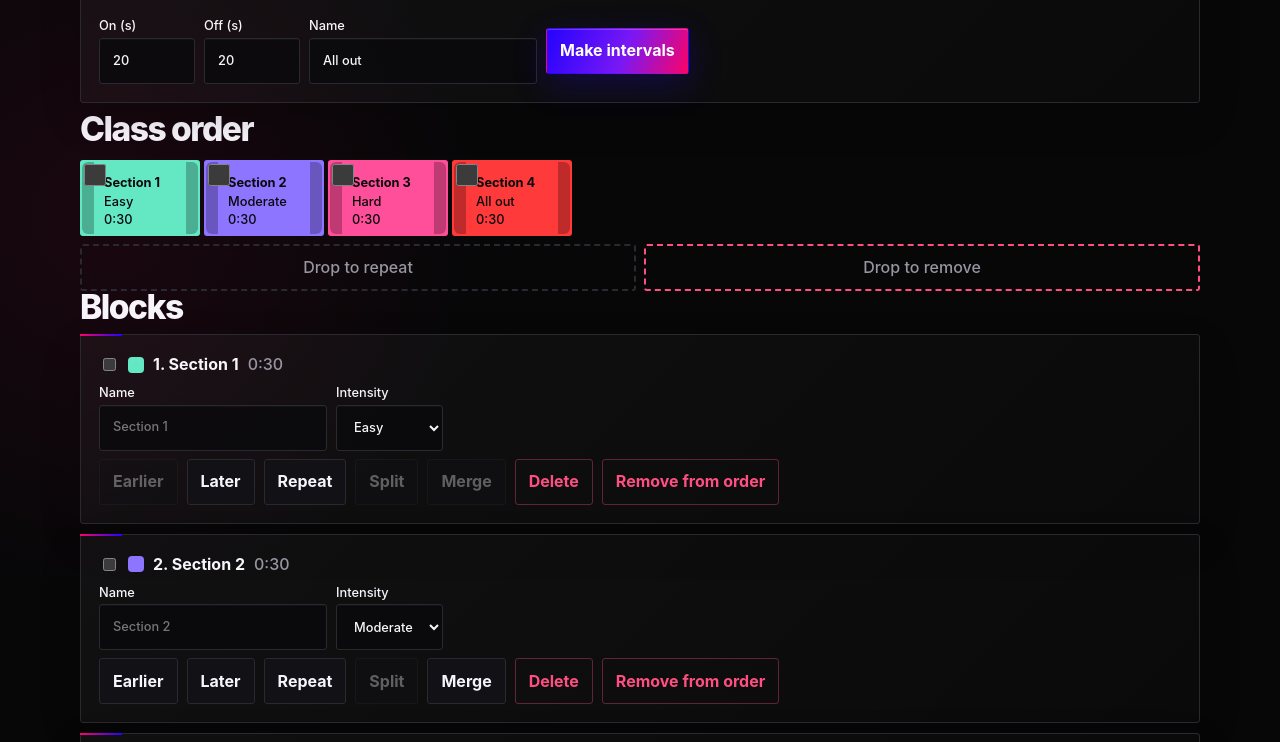
Test: Editor › select several blocks, then repeat them as a group
(page scrolled)
What coordinates should you click on to do the following:
click the checkbox named "Select block 1"
I would click on:
 (110, 365)
Its box is [103,358,116,371].
(page scrolled)
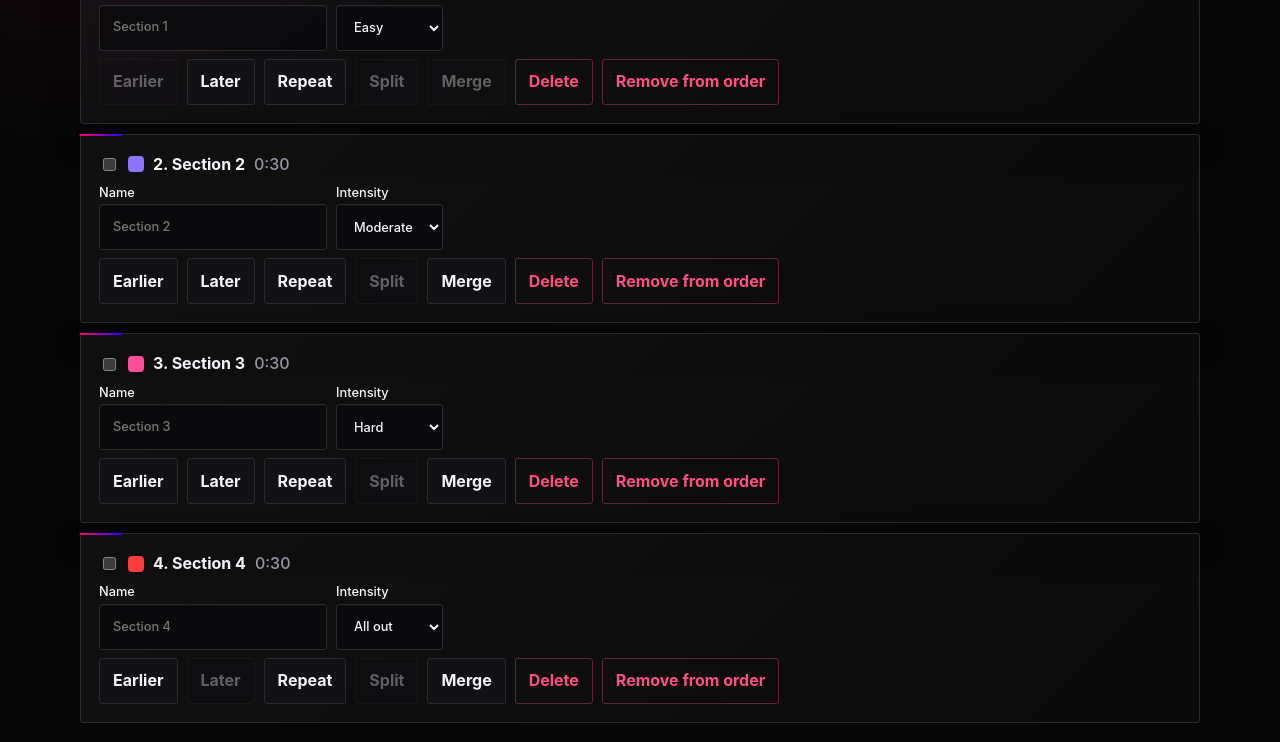
What coordinates should you click on to do the following:
click the checkbox named "Select block 3"
I would click on:
 (110, 364)
Its box is [103,358,116,370].
(page scrolled)
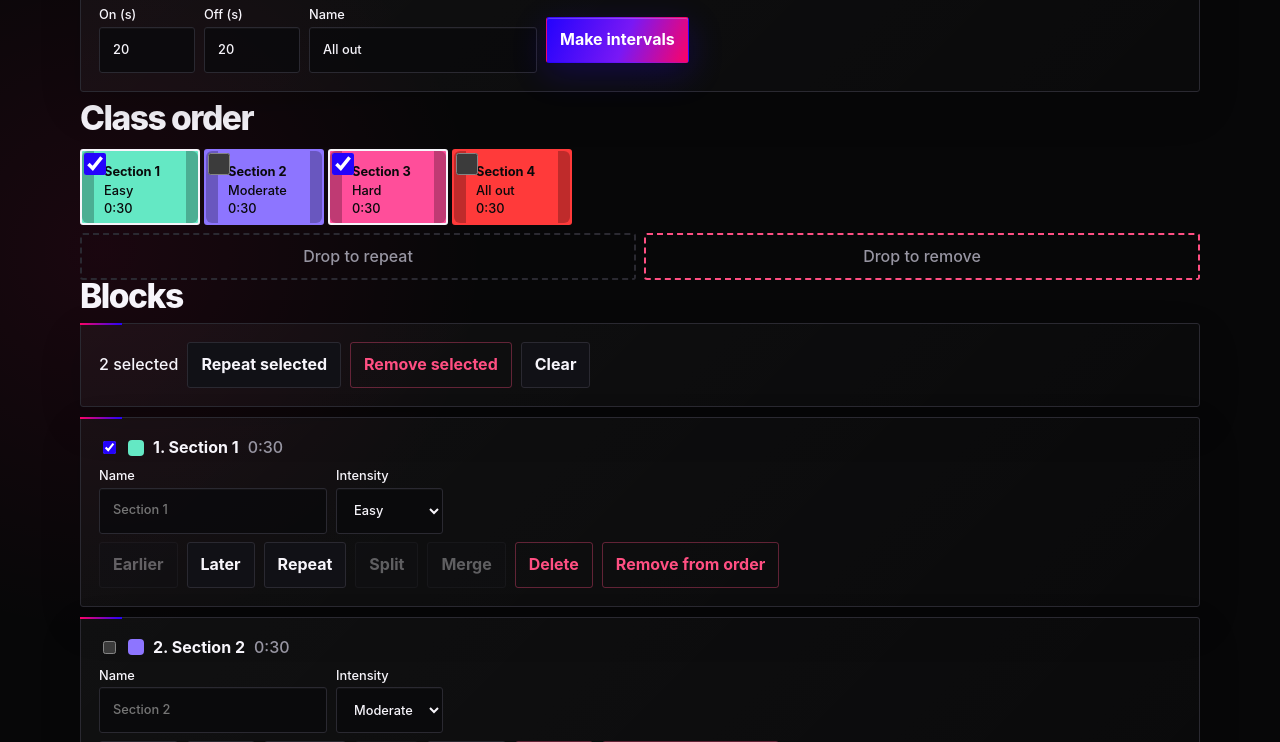
Now the element named "Selected blocks" shows "2 selected", box [99,354,178,374]
What coordinates should you click on to do the following:
click the button "Repeat selected"
I would click on:
 (264, 365)
Its box is [187,342,341,388].
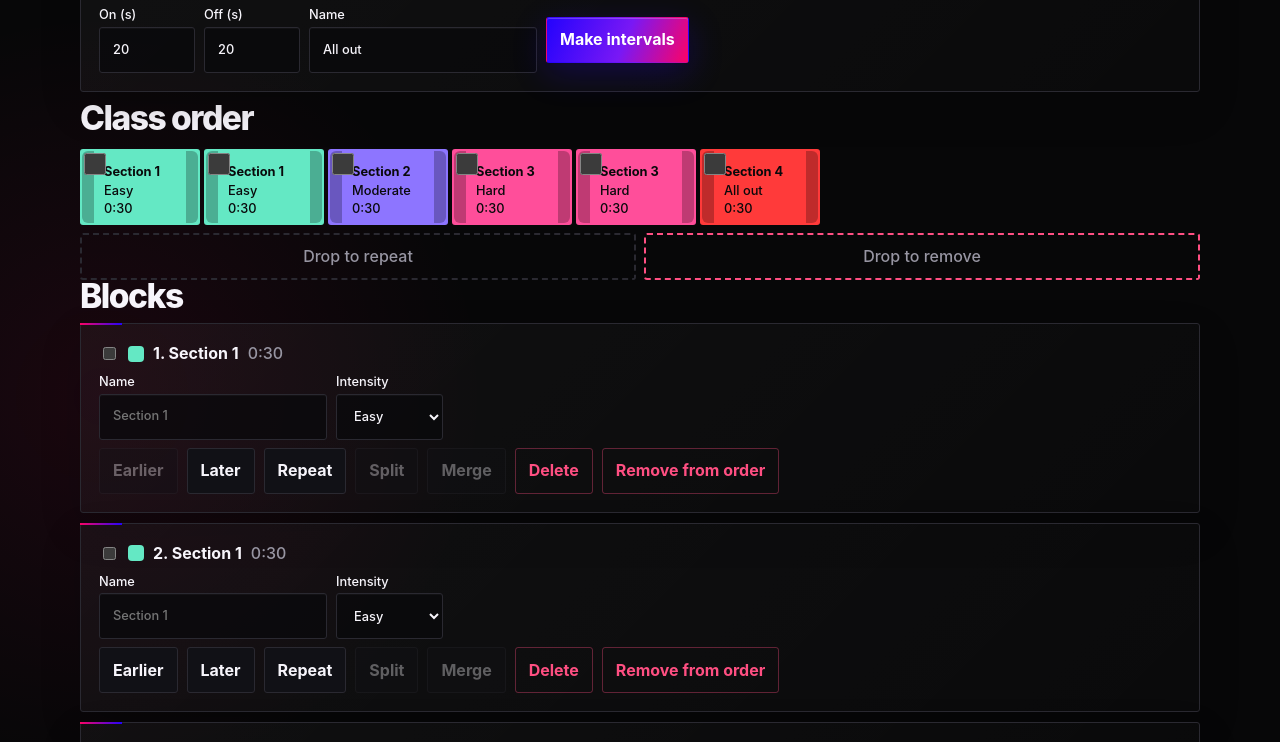
Now the number of list items with class "block" is 6
